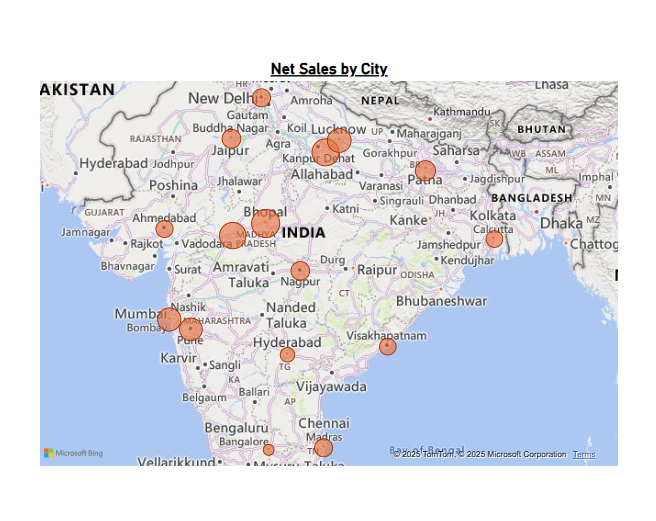

What the dashboard file says about the page in this screenshot:
{"tool":"powerbi","page":{"name":"Page 7","canvas":[1280,720],"ordinal":6},"visuals":[{"type":"map","title":"Net Sales by City","fields":{"Category":["Dim Customers.City"],"Size":["Sum(Fact Table.Net Sales)"]},"box":[320,192,544,400],"z":0}]}

Visuals, with their boxes on the page's 1280x720 design canvas (x1, y1, x2, y2). These are canvas units, not pixel positions in the 656x521 screenshot, which may show the page scaled, cropped or inside an application window:
"Net Sales by City" map: (x1=320, y1=192, x2=864, y2=592)
